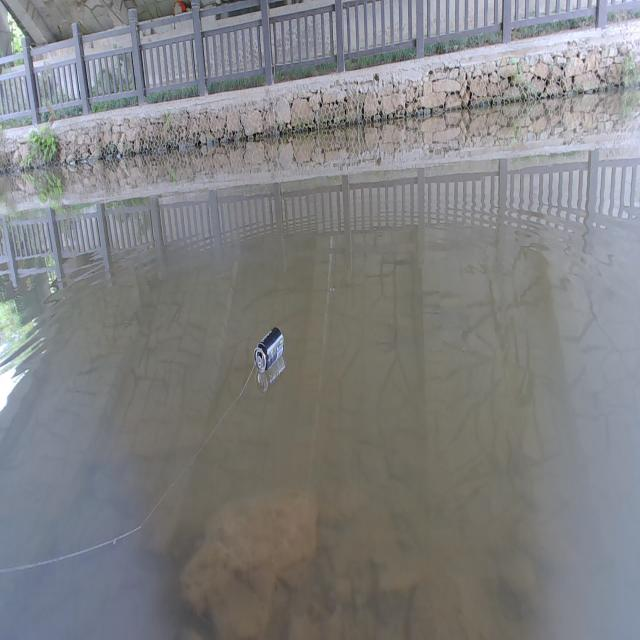Can: (252, 322, 285, 374)
